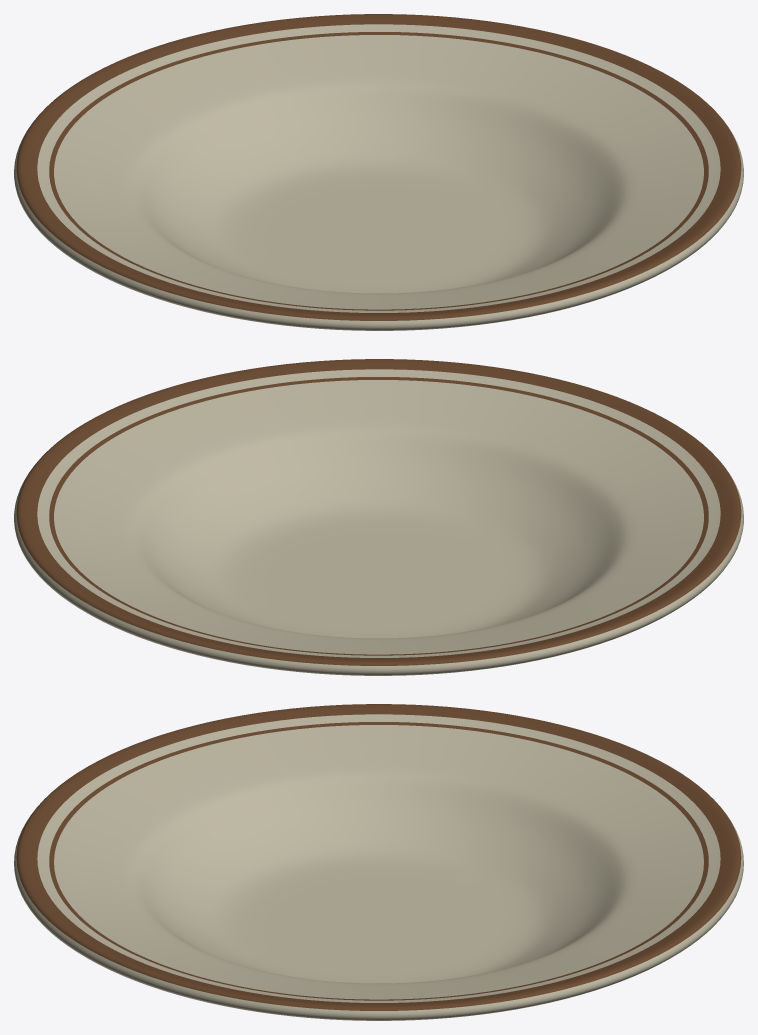
The model's file is piring garis coklat.fbx.
The picture shows the model from 3 angles, top to bottom: view 1: azimuth 30°, elevation 25°; view 2: azimuth 150°, elevation 25°; view 3: azimuth 270°, elevation 25°; orthographic projection.
Parts seen in each view (by area): view 1: Cylinder; view 2: Cylinder; view 3: Cylinder.
Boxes of the visible parts, bbox=[...] form: Cylinder: bbox=[14, 14, 743, 330]; Cylinder: bbox=[14, 359, 743, 675]; Cylinder: bbox=[14, 704, 743, 1020].
Size of the model in its own units: 485 by 62.75 by 485.
